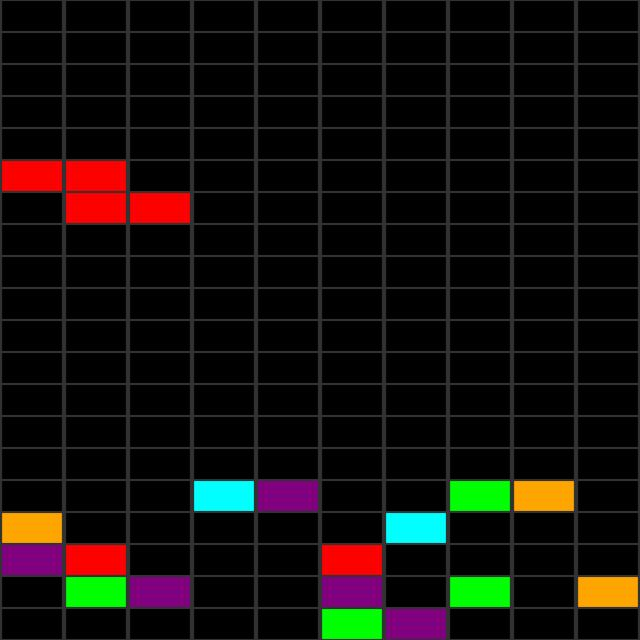Tetrimino_T: (5, 160, 188, 223)
